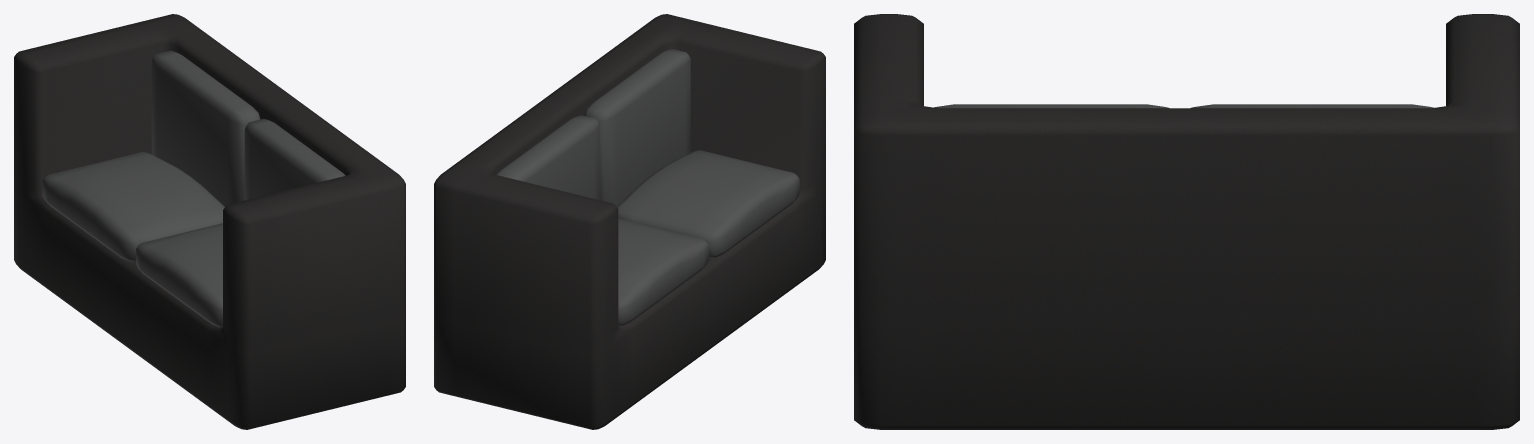
The model's file is Sofa.fbx.
3 renders of one model, left to right at view 1: azimuth 30°, elevation 25°; view 2: azimuth 150°, elevation 25°; view 3: azimuth 270°, elevation 25°, orthographic. The views are drawn at different scales.
Visible parts, largest first — view 1: Sofa; view 2: Sofa; view 3: Sofa.
Part boxes in pixels (x1,y1,x2,y2): Sofa: (14, 14, 405, 429); Sofa: (434, 14, 825, 429); Sofa: (854, 14, 1519, 429).
Bounding box in the file's own units: 255 × 311 × 612.
